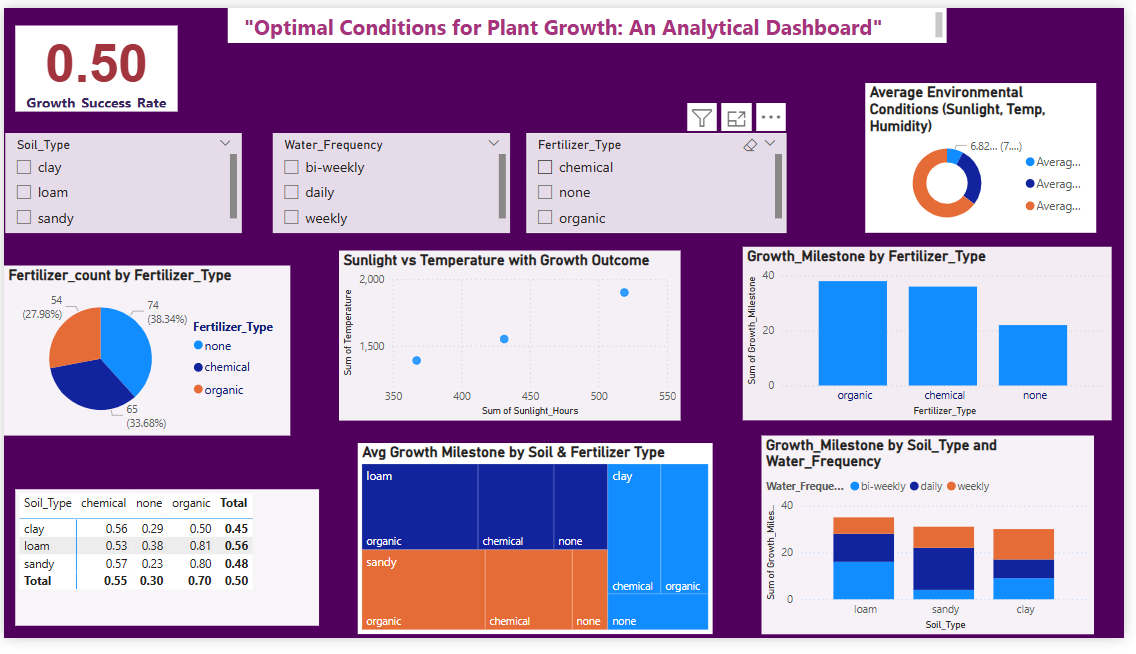

The page's visual inventory and layout, read from the dashboard file:
{"tool":"powerbi","page":{"name":"Page 1","canvas":[1280,720],"ordinal":0},"visuals":[{"type":"lineStackedColumnComboChart","title":"Growth_Milestone by Fertilizer_Type","fields":{"Category":["plant growth data.Fertilizer_Type"],"Y":["Sum(plant growth data.Growth_Milestone)"]},"box":[844.3,272.9,421.4,198.6],"z":0},{"type":"textbox","box":[255.7,0,821.4,40],"z":1000},{"type":"lineStackedColumnComboChart","title":"Growth_Milestone by Soil_Type and Water_Frequency","fields":{"Category":["plant growth data.Soil_Type"],"Series":["plant growth data.Water_Frequency"],"Y":["Sum(plant growth data.Growth_Milestone)"]},"box":[865.7,488.6,380,227.1],"z":2000},{"type":"scatterChart","title":"Sunlight vs Temperature with Growth Outcome","fields":{"X":["Sum(plant growth data.Sunlight_Hours)"],"Y":["Sum(plant growth data.Temperature)"],"Category":["plant growth data.Fertilizer_Type"]},"box":[382.9,277.1,390,194.3],"z":3000},{"type":"pieChart","fields":{"Y":["plant growth data.Fertilizer_count"],"Category":["plant growth data.Fertilizer_Type"]},"box":[0,294.3,327.1,194.3],"z":4000},{"type":"slicer","fields":{"Values":["plant growth data.Soil_Type"]},"box":[0,143.6,270.2,114.6],"z":5000},{"type":"slicer","fields":{"Values":["plant growth data.Water_Frequency"]},"box":[306.4,143.6,271.4,114.6],"z":6000},{"type":"slicer","fields":{"Values":["plant growth data.Fertilizer_Type"]},"box":[606.8,143.6,296.8,114.6],"z":7000},{"type":"pivotTable","fields":{"Rows":["plant growth data.Soil_Type"],"Columns":["plant growth data.Fertilizer_Type"],"Values":["plant growth data.Average_Growth_Milestone"]},"box":[12.9,550,347.1,155.7],"z":8000},{"type":"treemap","title":"Avg Growth Milestone by Soil & Fertilizer Type","fields":{"Group":["plant growth data.Soil_Type"],"Details":["plant growth data.Fertilizer_Type"],"Values":["plant growth data.Average_Growth_Milestone"]},"box":[404.3,497.1,405.7,218.6],"z":9000},{"type":"donutChart","title":"Average Environmental Conditions (Sunlight, Temp, Humidity)","fields":{"Y":["plant growth data.Average_Sunlight_Hours","plant growth data.Average_Temperature","plant growth data.Average_humidity"]},"box":[984.3,85.7,264.3,171.4],"z":10000},{"type":"card","fields":{"Values":["plant growth data.Growth_Success_Rate"]},"box":[13.3,20.5,173.7,106.2],"z":11000}]}

Visuals, with their boxes in screenshot pixels (x1, y1, x2, y2), scaled from the page's 1280x720 canvas onto the 1136x654 screenshot:
"Growth_Milestone by Fertilizer_Type" lineStackedColumnComboChart: (left=749, top=248, right=1123, bottom=428)
textbox: (left=227, top=0, right=956, bottom=36)
"Growth_Milestone by Soil_Type and Water_Frequency" lineStackedColumnComboChart: (left=768, top=444, right=1106, bottom=650)
"Sunlight vs Temperature with Growth Outcome" scatterChart: (left=340, top=252, right=686, bottom=428)
pieChart - plant growth data.Fertilizer_count x plant growth data.Fertilizer_Type: (left=0, top=267, right=290, bottom=444)
slicer - plant growth data.Soil_Type: (left=0, top=130, right=240, bottom=235)
slicer - plant growth data.Water_Frequency: (left=272, top=130, right=513, bottom=235)
slicer - plant growth data.Fertilizer_Type: (left=539, top=130, right=802, bottom=235)
pivotTable - plant growth data.Soil_Type x plant growth data.Fertilizer_Type: (left=11, top=500, right=320, bottom=641)
"Avg Growth Milestone by Soil & Fertilizer Type" treemap: (left=359, top=452, right=719, bottom=650)
"Average Environmental Conditions (Sunlight, Temp, Humidity)" donutChart: (left=874, top=78, right=1108, bottom=234)
card - plant growth data.Growth_Success_Rate: (left=12, top=19, right=166, bottom=115)
